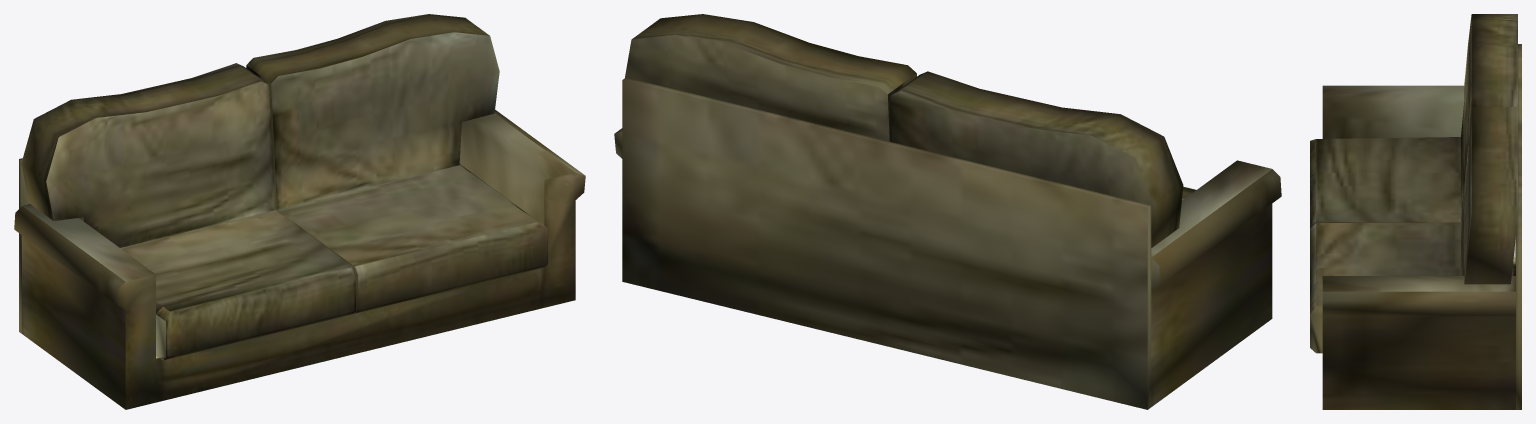
File: couch.FBX
3 views of the same model, side by side, from view 1: azimuth 30°, elevation 25°; view 2: azimuth 150°, elevation 25°; view 3: azimuth 270°, elevation 25° (orthographic). The views are drawn at different scales.
Visible parts, largest first — view 1: Box002; view 2: Box002; view 3: Box002.
Part boxes in pixels (x1,y1,x2,y2): Box002: [14, 14, 585, 409]; Box002: [614, 14, 1281, 409]; Box002: [1310, 14, 1521, 409].
Bounding box in the file's own units: 144 × 65.64 × 60.47.
